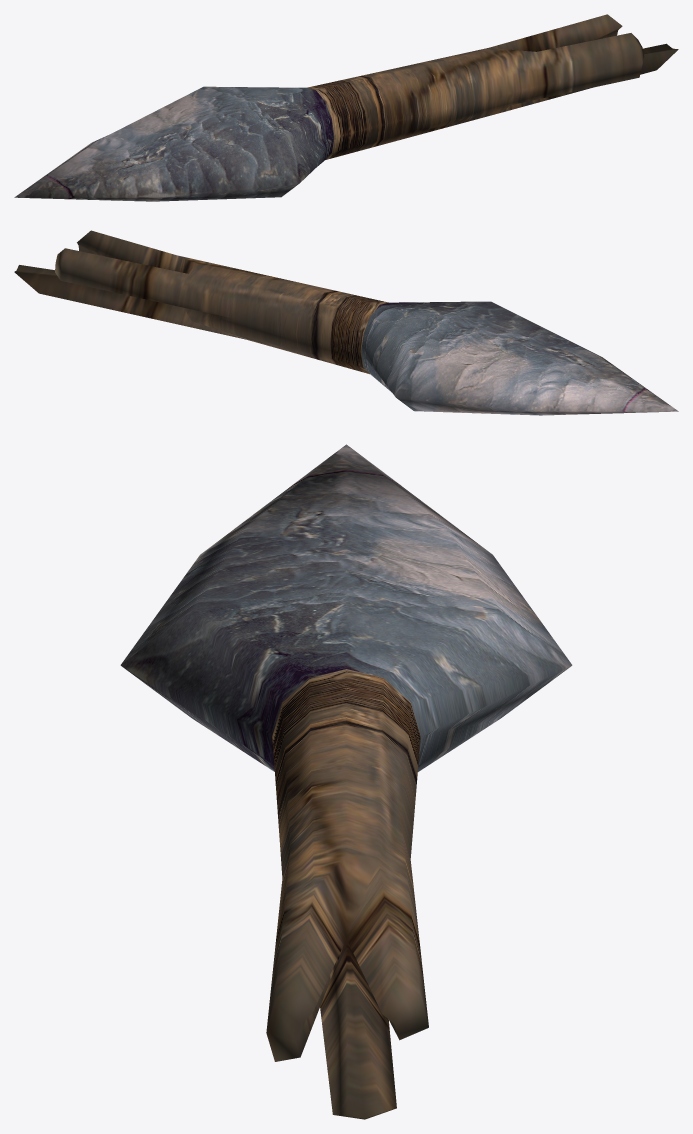
File: VolcanoSpear.FBX
The picture shows the model from 3 angles, top to bottom: view 1: azimuth 30°, elevation 25°; view 2: azimuth 150°, elevation 25°; view 3: azimuth 270°, elevation 25°; orthographic projection. The views are drawn at different scales.
Visible parts, largest first — view 1: VolcanoBrokenSpear; view 2: VolcanoBrokenSpear; view 3: VolcanoBrokenSpear.
Part boxes in pixels (bbox=[...]): VolcanoBrokenSpear: bbox=[14, 14, 678, 201]; VolcanoBrokenSpear: bbox=[14, 230, 678, 415]; VolcanoBrokenSpear: bbox=[120, 444, 572, 1119].
Bounding box in the file's own units: 68.38 × 7.7 × 20.3.
